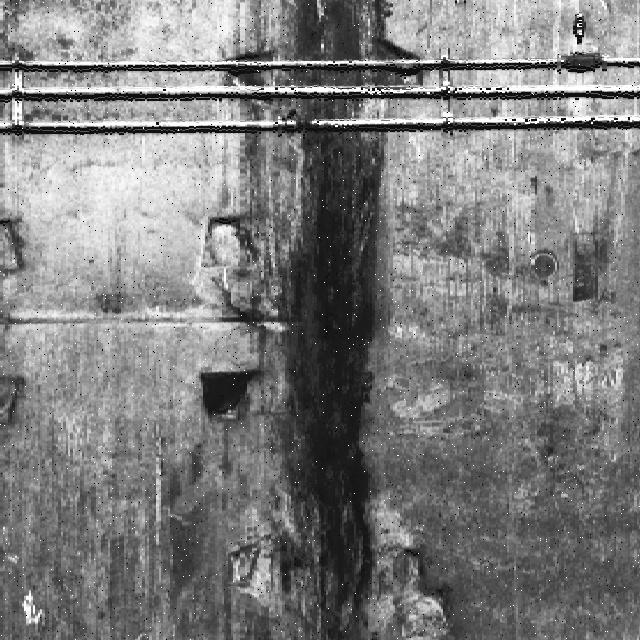leakage: (267, 2, 424, 640)
